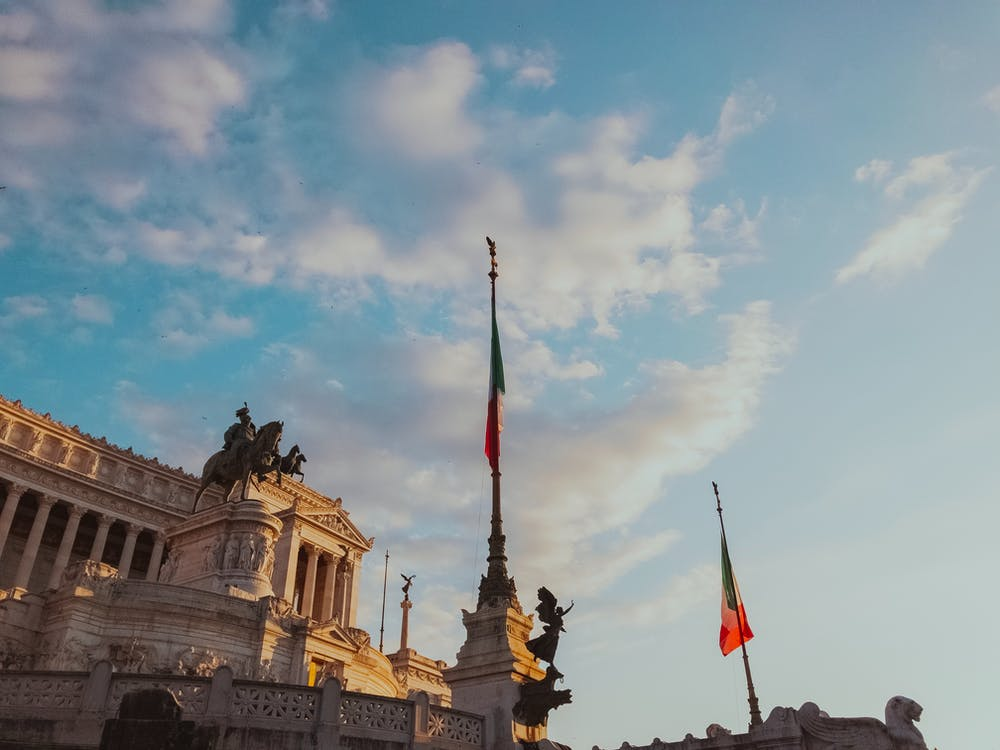Flag: (717, 528, 758, 659), (484, 304, 511, 476)
